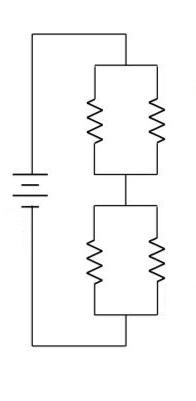resistor: (69, 220, 112, 297), (140, 75, 175, 169), (76, 76, 110, 160), (140, 224, 175, 291)
